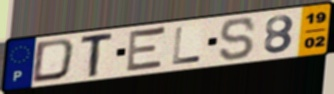8: (263, 14, 296, 54)
D: (30, 37, 78, 85)
E: (123, 25, 169, 75)
L: (171, 25, 204, 66)
S: (219, 17, 258, 63)
T: (79, 30, 116, 79)
